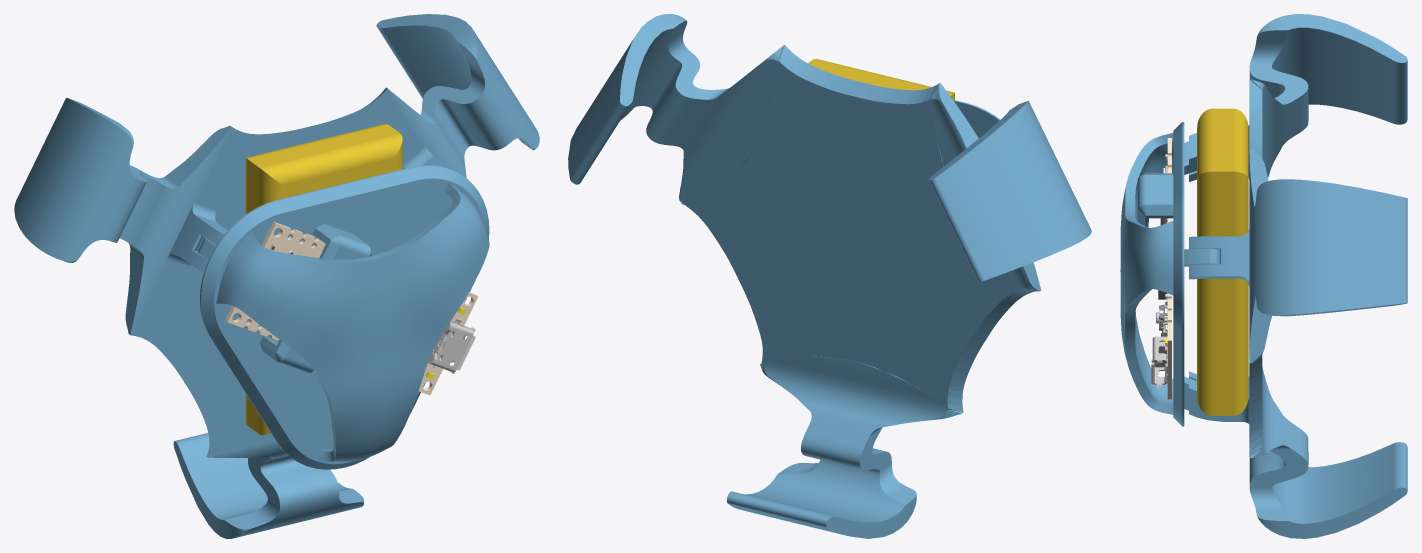
File: SpiderClip_Prototype_1.glb
The picture shows the model from 3 angles, left to right: view 1: azimuth 30°, elevation 25°; view 2: azimuth 150°, elevation 25°; view 3: azimuth 270°, elevation 25°; orthographic projection. The views are drawn at different scales.
Parts seen in each view (by area): view 1: mainboard, cover, upper part, Batterie, Board.001, Body1; view 2: mainboard, Batterie, upper part; view 3: mainboard, Batterie, cover, upper part, Body1, Board.001.
Part boxes in pixels (<box>): mainboard: <box>14,14,539,538</box>; cover: <box>216,182,489,461</box>; upper part: <box>197,165,489,469</box>; Batterie: <box>245,124,402,435</box>; Board.001: <box>225,221,478,395</box>; Body1: <box>428,318,475,373</box>; mainboard: <box>568,14,1091,538</box>; Batterie: <box>808,59,954,101</box>; upper part: <box>955,100,1000,138</box>; mainboard: <box>1189,14,1407,538</box>; Batterie: <box>1197,108,1248,415</box>; cover: <box>1120,133,1173,414</box>; upper part: <box>1137,122,1219,426</box>; Body1: <box>1151,336,1168,387</box>; Board.001: <box>1167,138,1171,399</box>.
Size of the model in its own units: 0.0919 by 0.0796 by 0.05.
